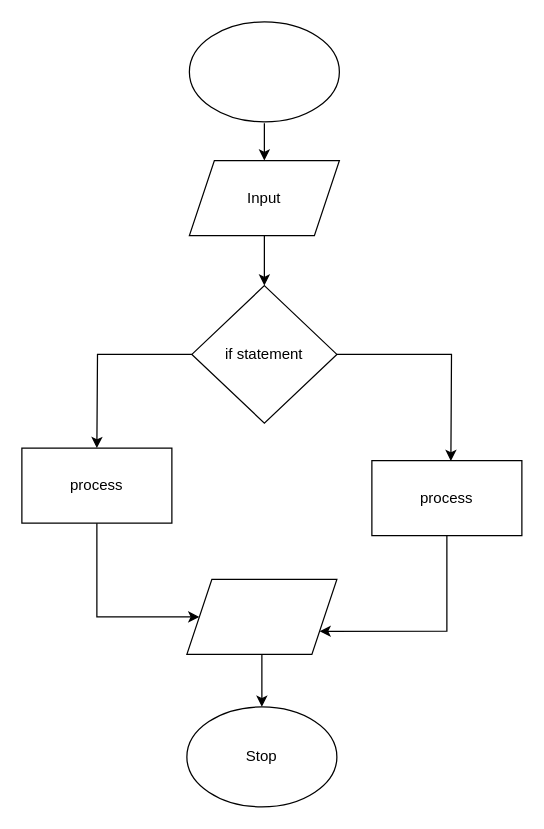
The diagram is 544 pixels wide and 829 high, and some of its shapes have lost their labels. Each missing label, with the box of its shape:
Output: (186, 578, 337, 654)
Start: (188, 21, 339, 122)
